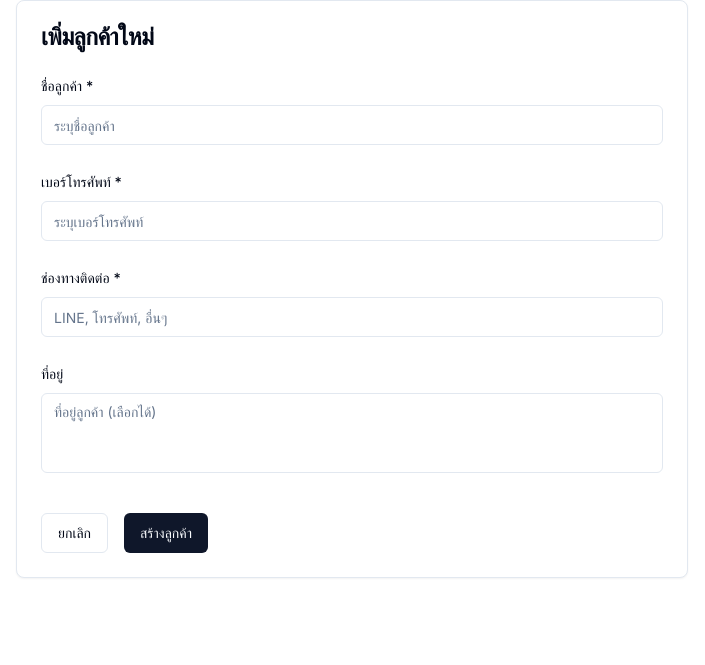
Scenario: CustomerForm › Create Mode › should display general error messages
Type "John Doe" into the field labelled "ชื่อลูกค้า *" at {"x": 352, "y": 125}, box 41,105 -> 663,145
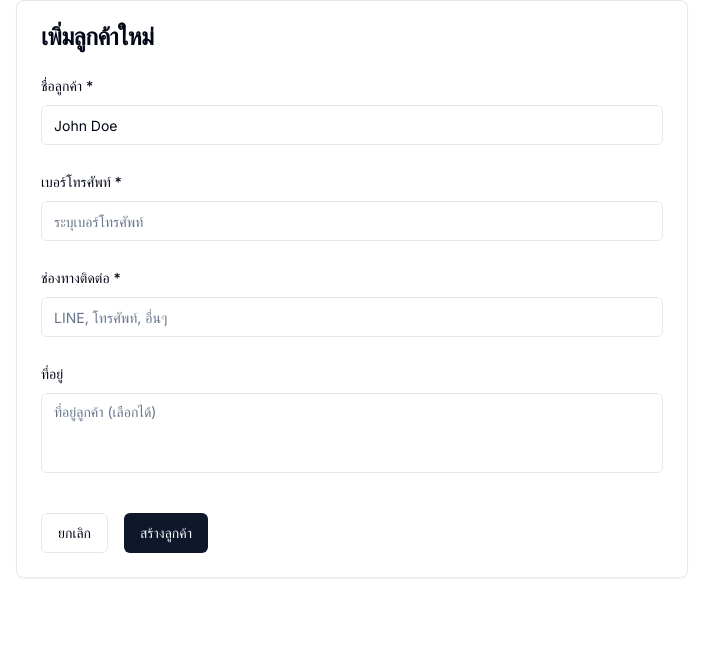
Type "0812345678" into the field labelled "เบอร์โทรศัพท์ *" at {"x": 352, "y": 221}, box 41,201 -> 663,241
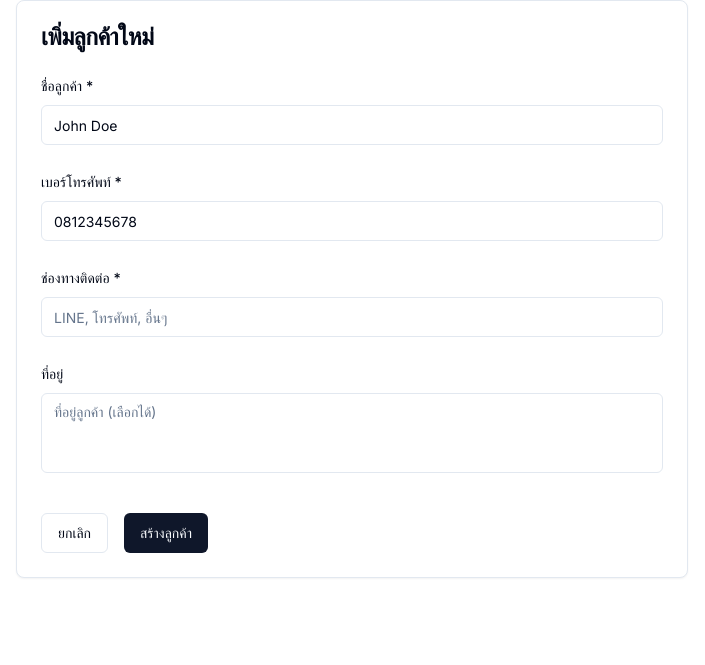
Type "LINE" into the field labelled "ช่องทางติดต่อ *" at {"x": 352, "y": 317}, box 41,297 -> 663,337
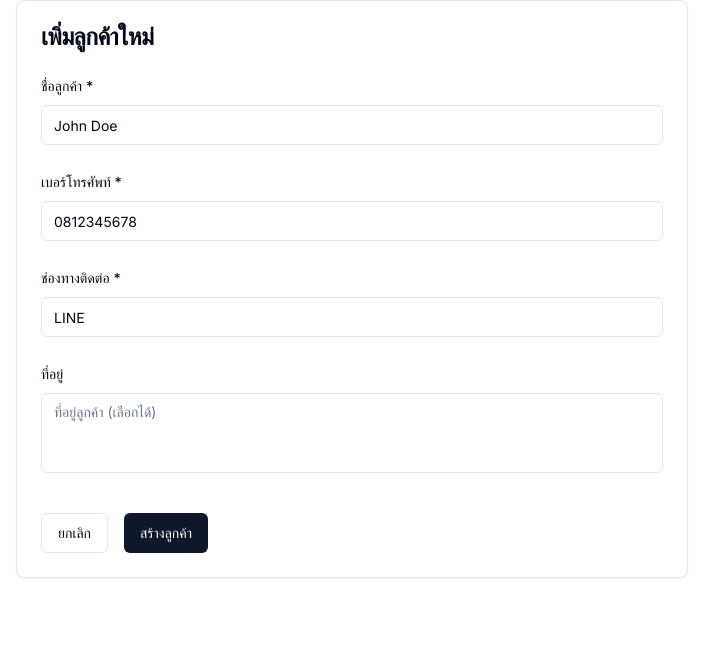
Click the button "สร้างลูกค้า" at {"x": 166, "y": 533}, box 124,513 -> 208,553
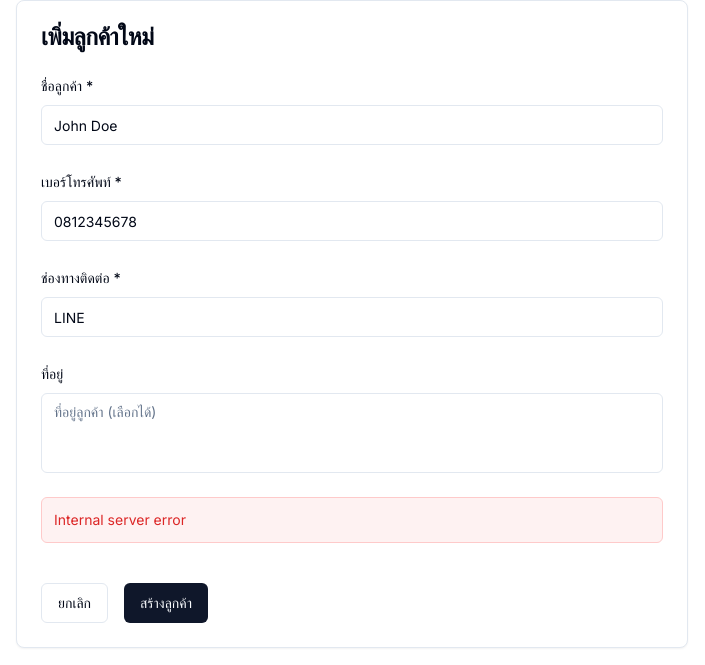
Now the text "Internal server error" is shown, box 41,497 -> 663,543
